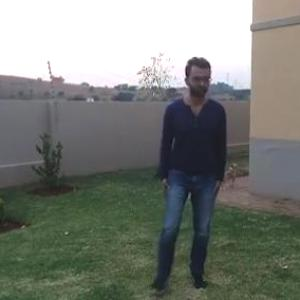follow: (143, 50, 229, 299)
